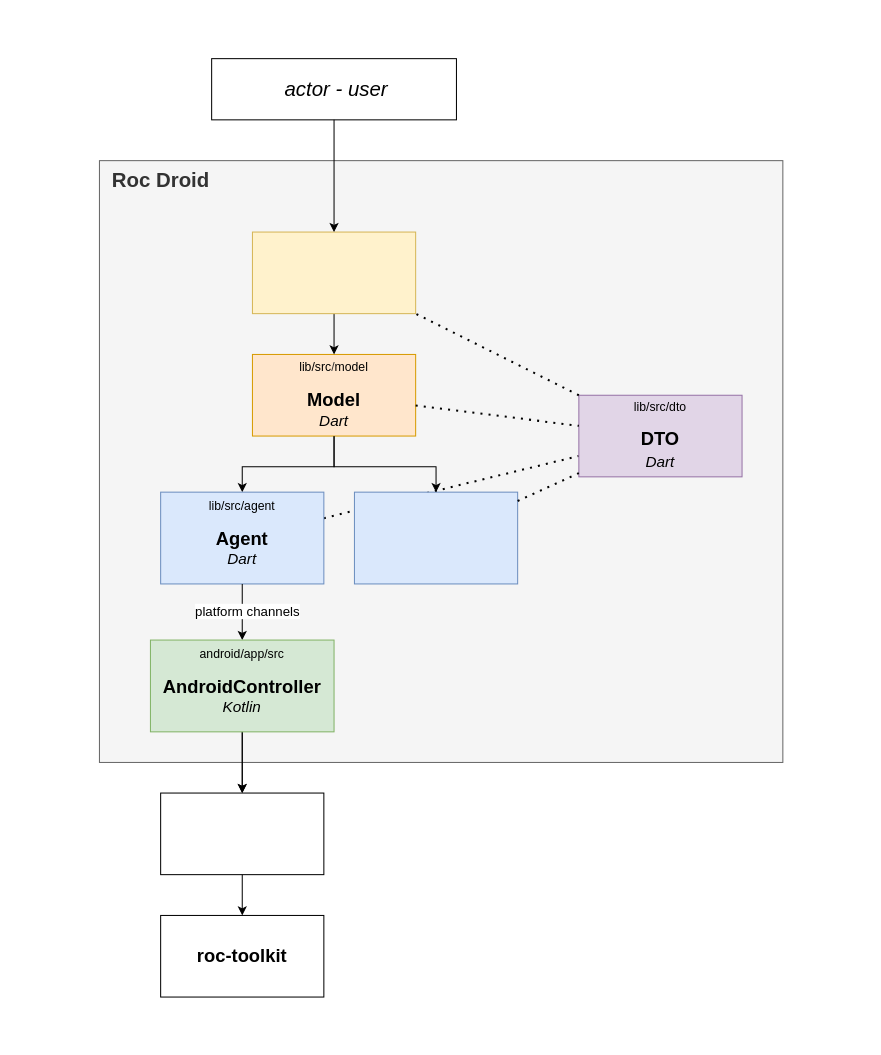
This 881x1055 diagram has some shape labels left out. Here are the shapes that lost their labels. From the top down, the centre of each, then its label:
At (333,272): "lib/src/ui UI Dart/Flutter".
At (435,537): "lib/src/storage Storage Dart".
At (242,833): "roc-java".
